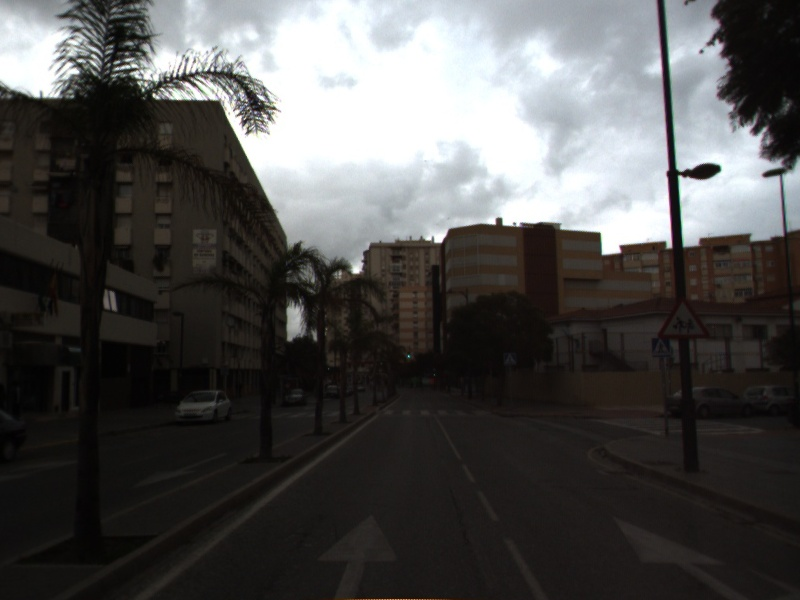STRAIGHT: (607, 510, 758, 600), (313, 509, 404, 600)
